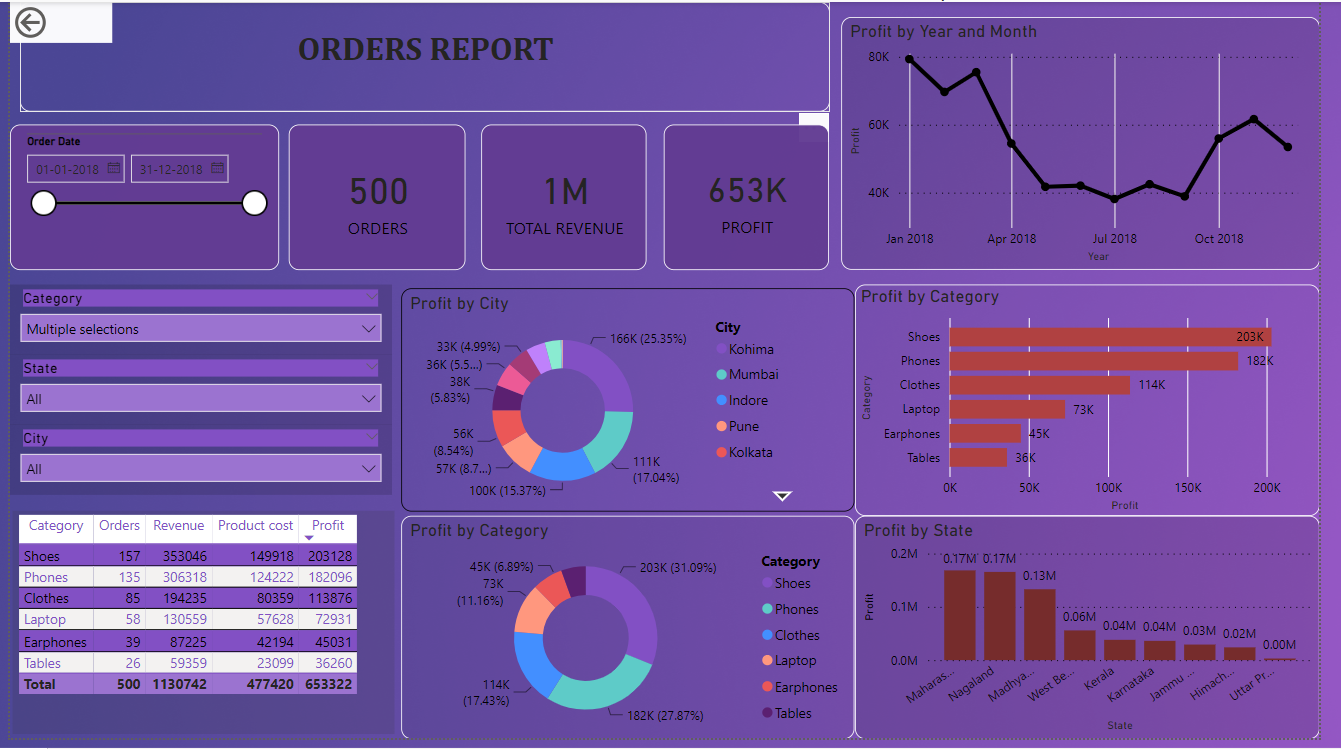

The page's visual inventory and layout, read from the dashboard file:
{"tool":"powerbi","page":{"name":"Page 1","canvas":[1280,720],"ordinal":0},"visuals":[{"type":"textbox","box":[9.6,0,791.8,107],"z":0},{"type":"card","fields":{"Values":["CountNonNull(Orders.Order ID)"]},"box":[273.1,119.4,172.9,142.7],"z":1000},{"type":"card","fields":{"Values":["Sum(Orders.order_total)"]},"box":[461.1,119.4,161.9,142.7],"z":2000},{"type":"card","fields":{"Values":["Sum(Orders.profit)"]},"box":[639.5,119.4,161.9,142.7],"z":3000},{"type":"lineChart","fields":{"Category":["Orders.Order Date.Variation.Date Hierarchy.Year","Orders.Order Date.Variation.Date Hierarchy.Month"],"Y":["Sum(Orders.profit)"]},"box":[812.4,15.1,467.9,247],"z":4000},{"type":"clusteredBarChart","fields":{"Y":["Sum(Orders.profit)"],"Category":["Orders.Category"]},"box":[826.1,275.8,454.2,226.4],"z":5000},{"type":"columnChart","fields":{"Y":["Sum(Orders.profit)"],"Category":["Orders.State"]},"box":[826.1,502.2,454.2,218.2],"z":6000},{"type":"donutChart","fields":{"Y":["Sum(Orders.profit)"],"Category":["Orders.Category"]},"box":[382.8,502.2,443.2,218.2],"z":7000},{"type":"donutChart","fields":{"Y":["Sum(Orders.profit)"],"Category":["Orders.City"]},"box":[382.8,279.9,443.2,218.2],"z":8000},{"type":"tableEx","fields":{"Values":["Orders.Category","CountNonNull(Orders.Order ID)","Sum(Orders.order_total)","Sum(Orders.Product cost)","Sum(Orders.profit)"]},"box":[2,497,373.2,218.2],"z":9000},{"type":"actionButton","box":[0,0,100,40],"z":10000},{"type":"slicer","fields":{"Values":["Orders.Order Date"]},"box":[0,119.4,263.5,142.7],"z":11000},{"type":"slicer","fields":{"Values":["Orders.Category"]},"box":[0,275.8,373.2,68.6],"z":12000},{"type":"slicer","fields":{"Values":["Orders.State"]},"box":[0,344.4,373.2,68.6],"z":12001},{"type":"slicer","fields":{"Values":["Orders.City"]},"box":[0,413,373.2,68.6],"z":12002}]}

Visuals, with their boxes in screenshot pixels (x1, y1, x2, y2), scaled from the page's 1280x720 canvas onto the 1341x749 screenshot:
textbox: (x1=10, y1=0, x2=840, y2=111)
card - CountNonNull(Orders.Order ID): (x1=286, y1=124, x2=467, y2=273)
card - Sum(Orders.order_total): (x1=483, y1=124, x2=653, y2=273)
card - Sum(Orders.profit): (x1=670, y1=124, x2=840, y2=273)
lineChart - Orders.Order Date.Variation.Date Hierarchy.Year x Orders.Order Date.Variation.Date Hierarchy.Month: (x1=851, y1=16, x2=1340, y2=273)
clusteredBarChart - Sum(Orders.profit) x Orders.Category: (x1=865, y1=287, x2=1340, y2=522)
columnChart - Sum(Orders.profit) x Orders.State: (x1=865, y1=522, x2=1340, y2=748)
donutChart - Sum(Orders.profit) x Orders.Category: (x1=401, y1=522, x2=865, y2=748)
donutChart - Sum(Orders.profit) x Orders.City: (x1=401, y1=291, x2=865, y2=518)
tableEx - Orders.Category x CountNonNull(Orders.Order ID): (x1=2, y1=517, x2=393, y2=744)
actionButton: (x1=0, y1=0, x2=105, y2=42)
slicer - Orders.Order Date: (x1=0, y1=124, x2=276, y2=273)
slicer - Orders.Category: (x1=0, y1=287, x2=391, y2=358)
slicer - Orders.State: (x1=0, y1=358, x2=391, y2=430)
slicer - Orders.City: (x1=0, y1=430, x2=391, y2=501)
